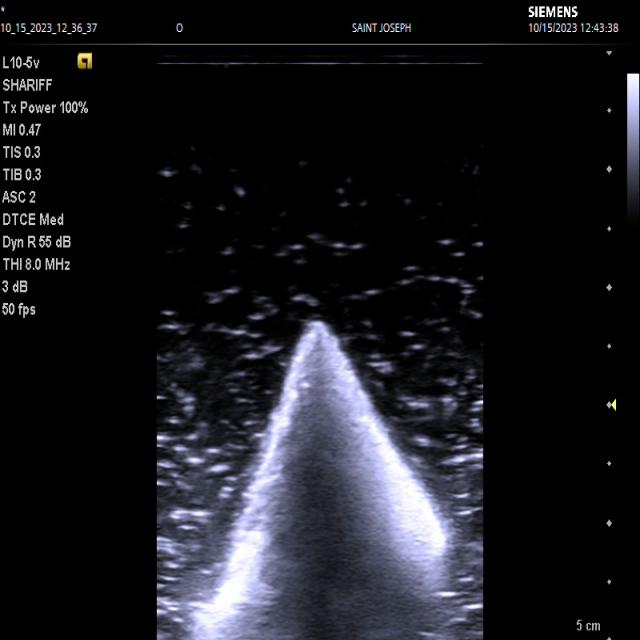tissue: (190, 321, 458, 640)
